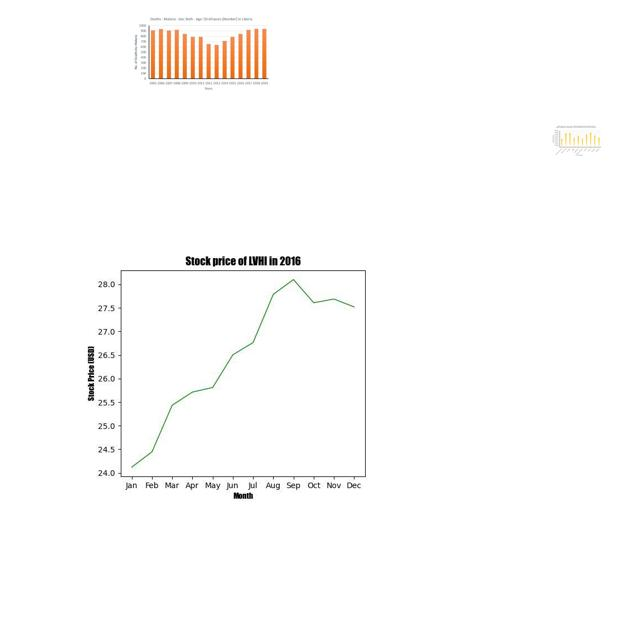Graph: (60, 238, 417, 506), (131, 15, 271, 92), (550, 125, 602, 156)
